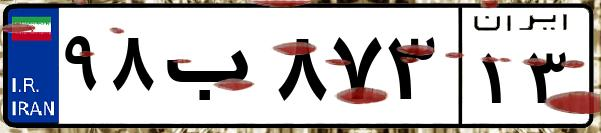1: (475, 38, 525, 113)
3: (385, 28, 445, 110), (525, 38, 570, 115)
7: (330, 28, 385, 110)
8: (270, 28, 330, 110), (110, 28, 158, 98)
9: (57, 26, 110, 100)
ب: (158, 20, 270, 120)
